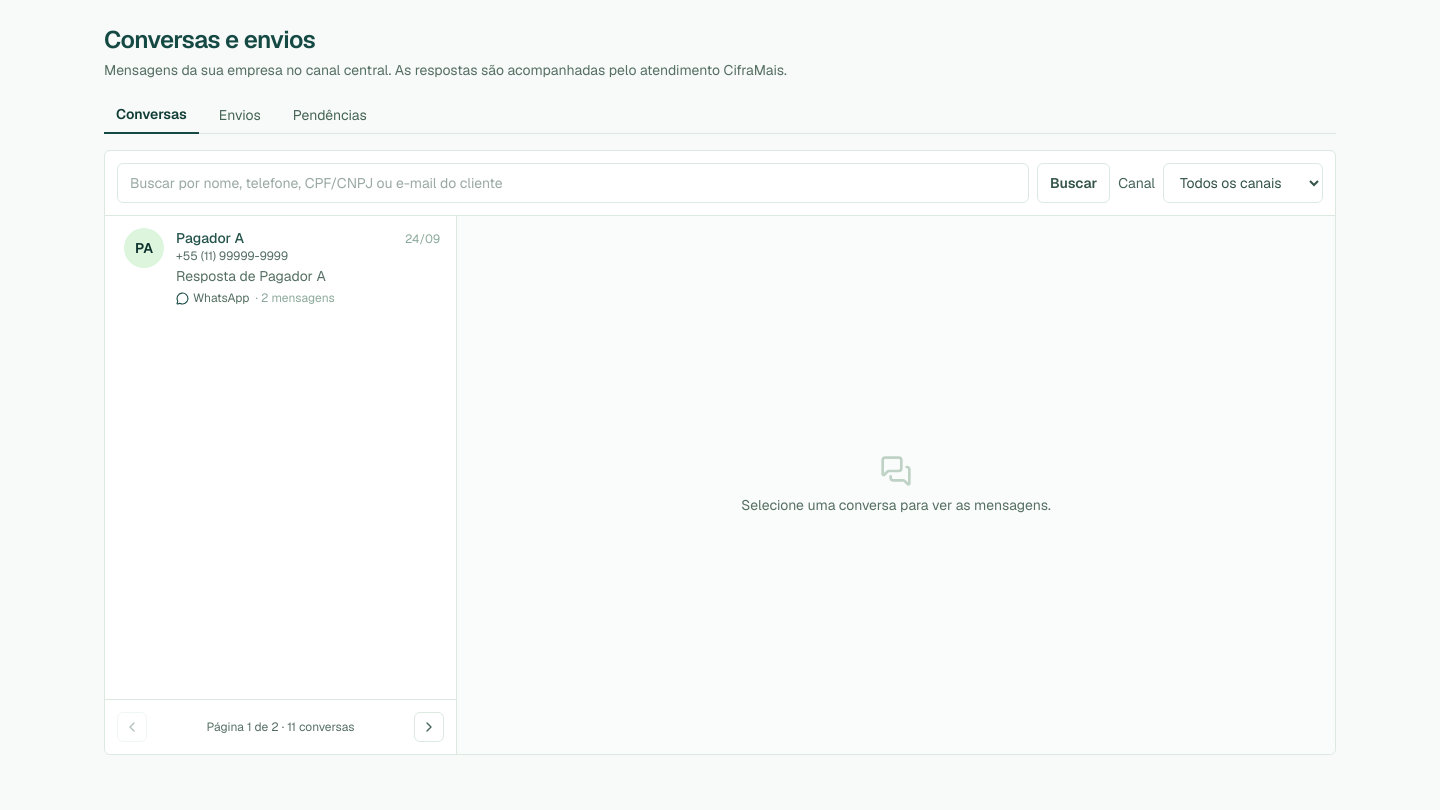
Test: Company conversations (read-only) › pages with the server cursor and shows the total
Expected: the text "Página 1 de 2 · 11 conversas" is shown, [206,719,354,735]
Expected: the button named "Anterior" is disabled, [117,712,147,742]
Click the button named "Próxima" at [429, 727], box [414,712,444,742]
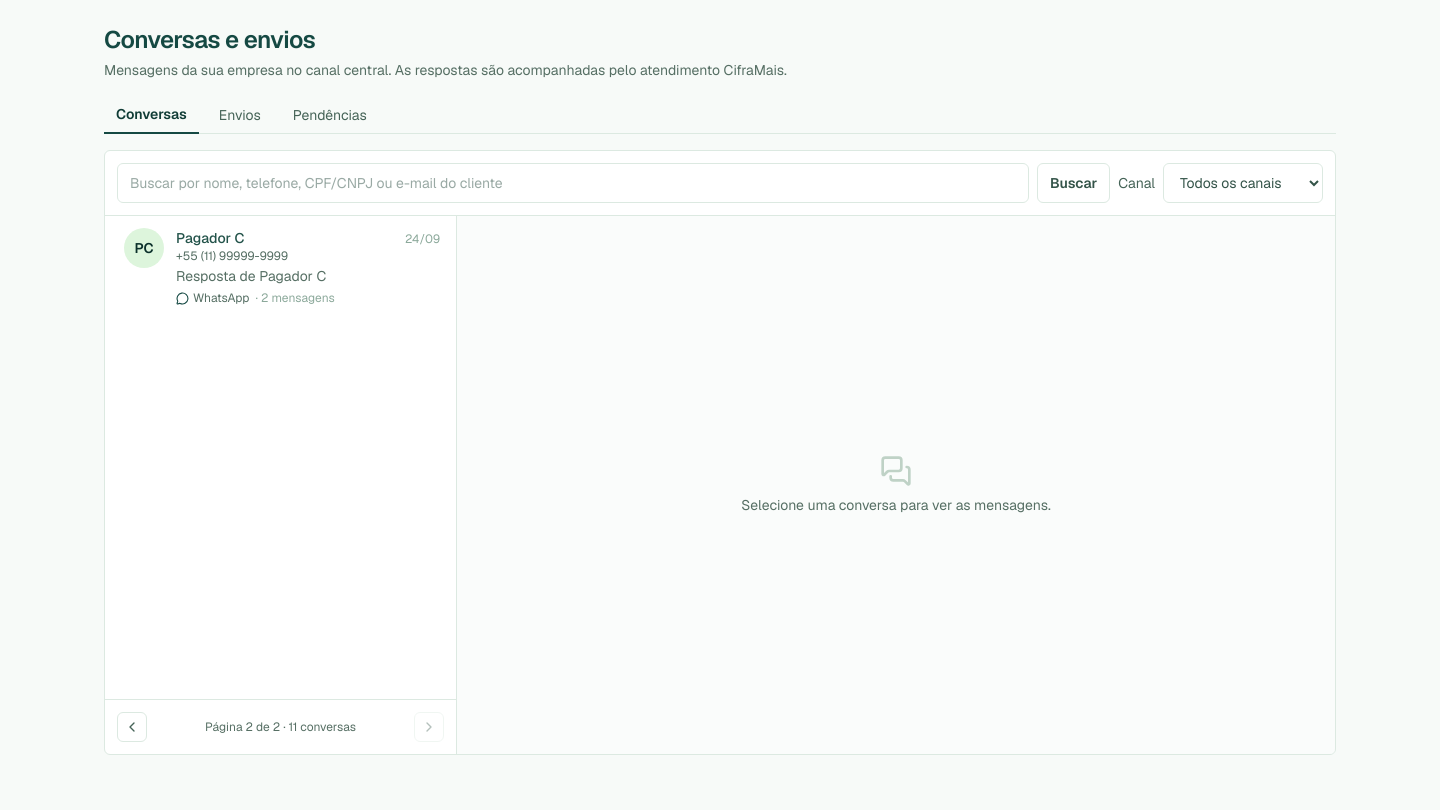
Expected: the button "Pagador C" is shown, [105,216,456,318]
Expected: the text "Página 2 de 2 · 11 conversas" is shown, [205,719,356,735]
Click the button named "Anterior" at [132, 727], box [117,712,147,742]
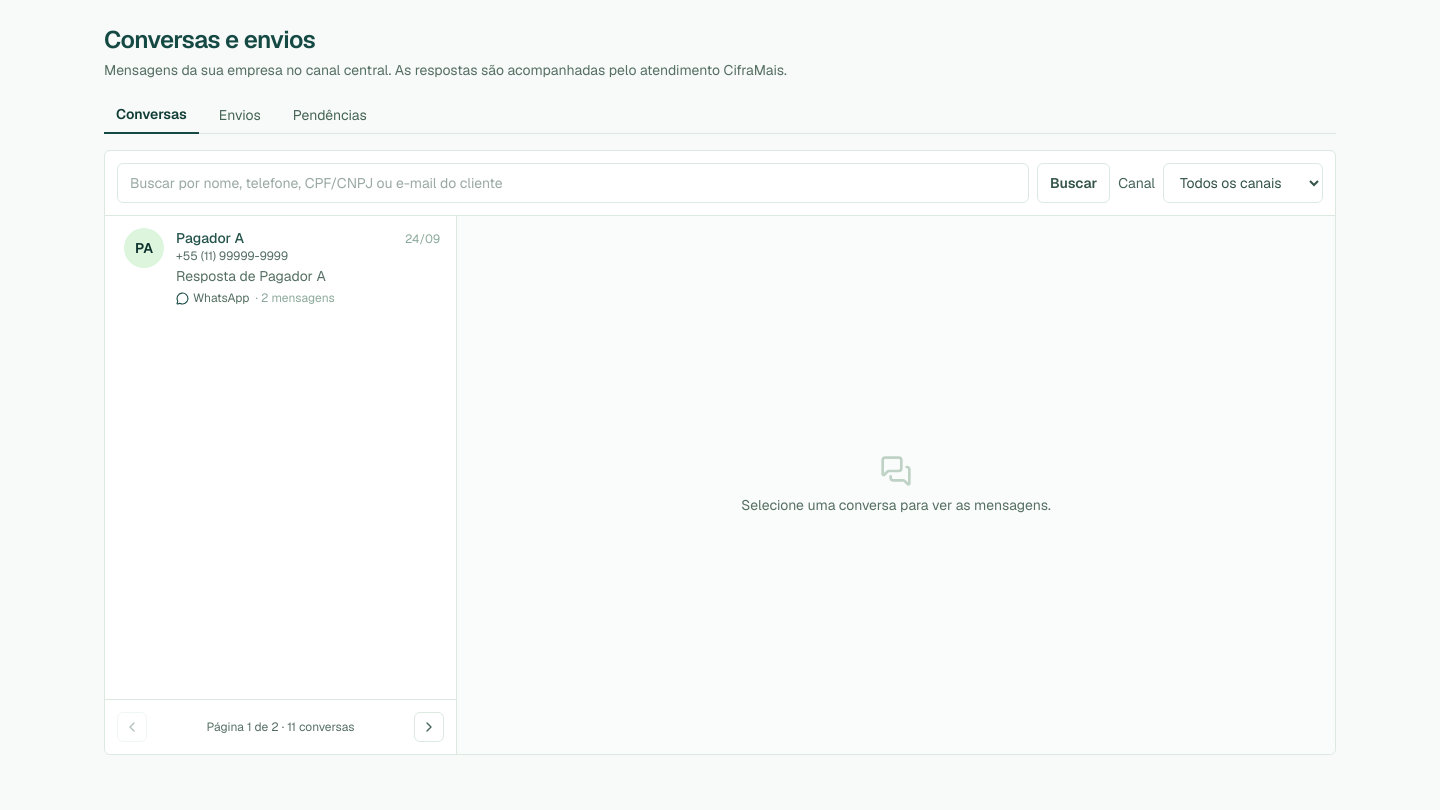
Expected: the button "Pagador A" is shown, [105,216,456,318]
